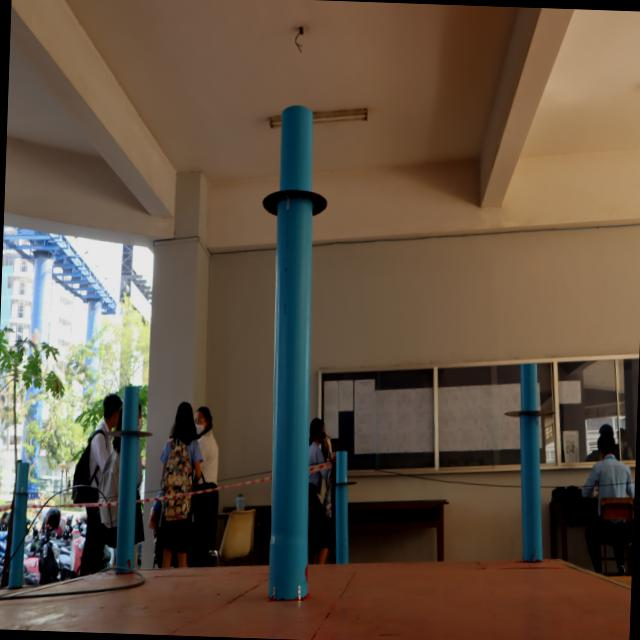pole: (253, 99, 339, 265), (501, 356, 558, 468), (108, 382, 156, 469), (323, 450, 358, 510)
